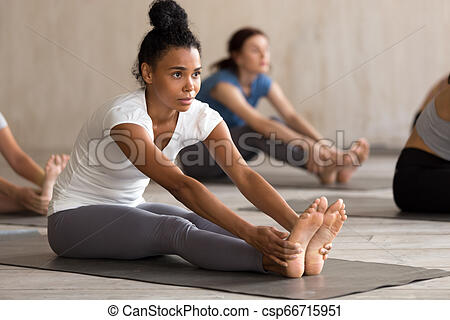person: (100, 19, 230, 202)
